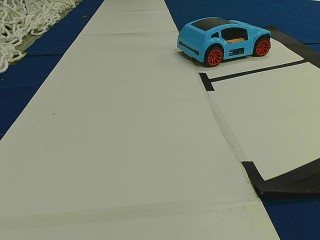car: (177, 18, 270, 65)
